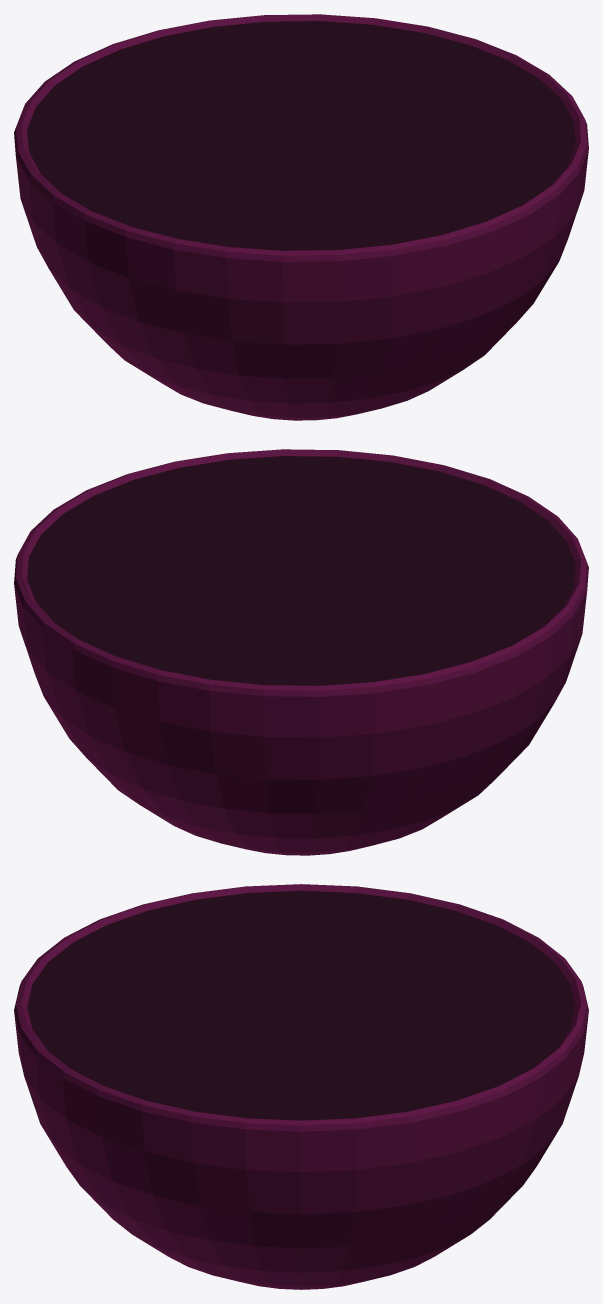
Rendered from icon-infodive-1.dae.
3 renders of one model, top to bottom at view 1: azimuth 30°, elevation 25°; view 2: azimuth 150°, elevation 25°; view 3: azimuth 270°, elevation 25°, orthographic.
Visible parts, largest first — view 1: surface, base; view 2: surface, base; view 3: surface, base.
Boxes of the visible parts, left/top/right/bottom form: surface: left=27, top=21, right=575, bottom=250; base: left=14, top=14, right=588, bottom=420; surface: left=27, top=456, right=575, bottom=685; base: left=14, top=449, right=588, bottom=855; surface: left=27, top=890, right=575, bottom=1120; base: left=14, top=884, right=588, bottom=1289.
Size of the model in its own units: 199 by 99.74 by 199.
